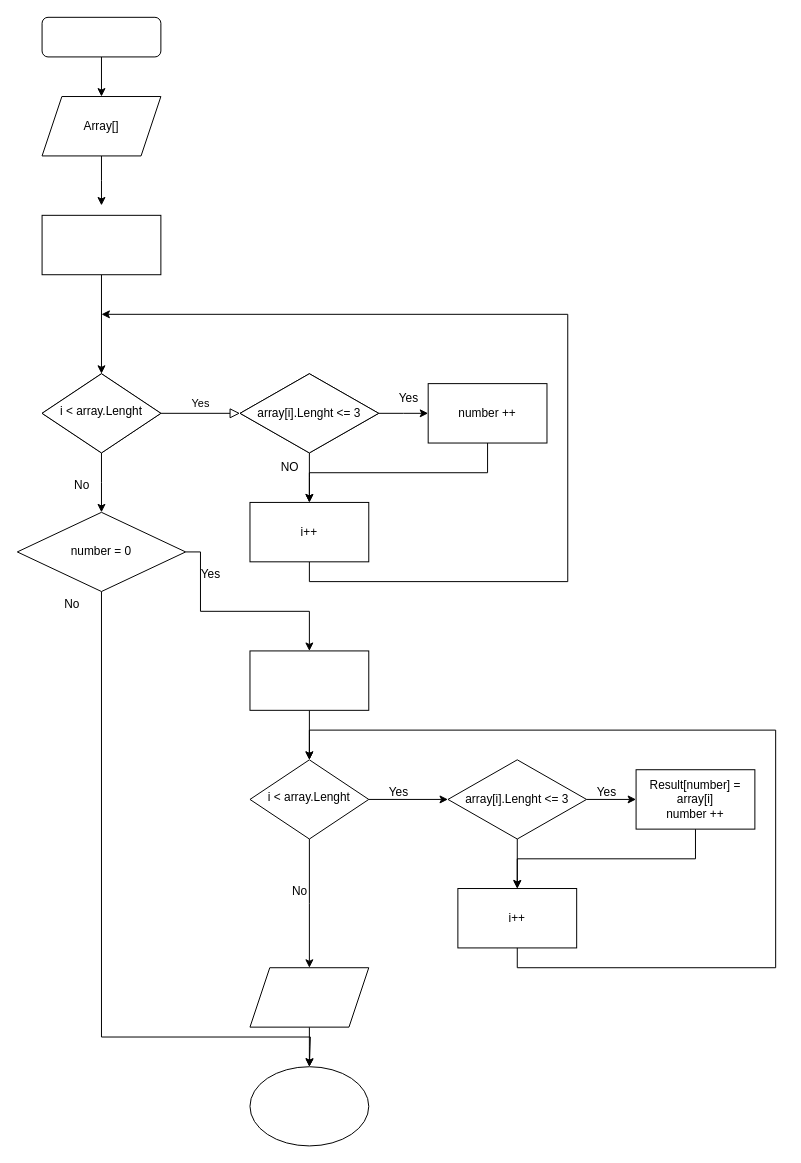
The diagram is 801 pixels wide and 1163 high, and some of its shapes have lost their labels. Here are the shapes that lost their labels. From the top down, the centre of each, then its label:
At point (101, 36): "Start".
At point (101, 244): "i = 0 number = 0".
At point (309, 680): "Result[number] number = 0".
At point (309, 997): "Result[]".
At point (309, 1106): "End".
